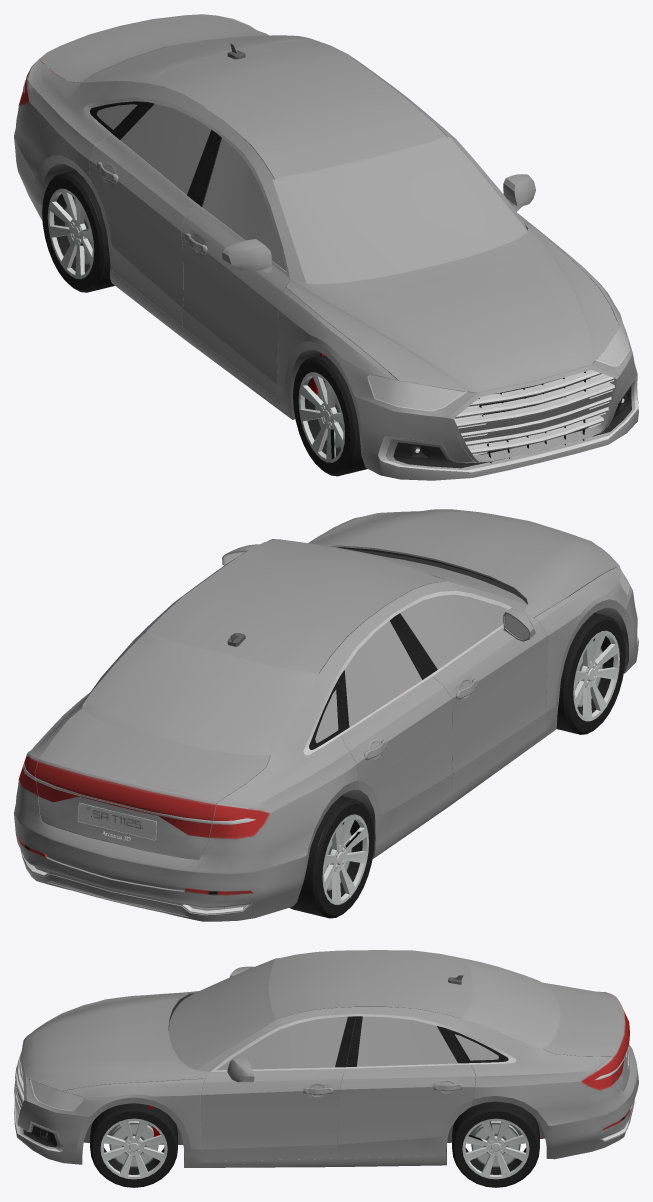
Rendered from Carro9.obj.
The picture shows the model from 3 angles, top to bottom: view 1: azimuth 30°, elevation 25°; view 2: azimuth 150°, elevation 25°; view 3: azimuth 270°, elevation 25°; orthographic projection. The views are drawn at different scales.
Visible parts, largest first — view 1: Body, Wheel_Rear_right, Wheel_Front_right; view 2: Body, Wheel_Rear_right, Wheel_Front_right; view 3: Body, Wheel_Rear_left, Wheel_Front_left.
Part boxes in pixels (x1,y1,x2,y2): Body: [14, 14, 638, 480]; Wheel_Rear_right: [42, 170, 114, 292]; Wheel_Front_right: [293, 355, 367, 476]; Body: [14, 509, 638, 921]; Wheel_Rear_right: [289, 796, 374, 918]; Wheel_Front_right: [556, 613, 625, 734]; Body: [14, 950, 638, 1167]; Wheel_Rear_left: [452, 1101, 539, 1187]; Wheel_Front_left: [90, 1103, 177, 1187].
Size of the model in its own units: 56.54 by 40.17 by 138.
3 materials, 2 textured.
